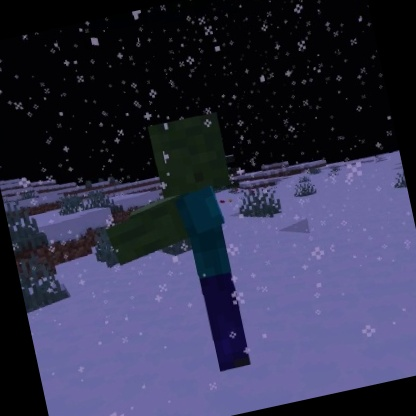zombie: (81, 103, 277, 396)
